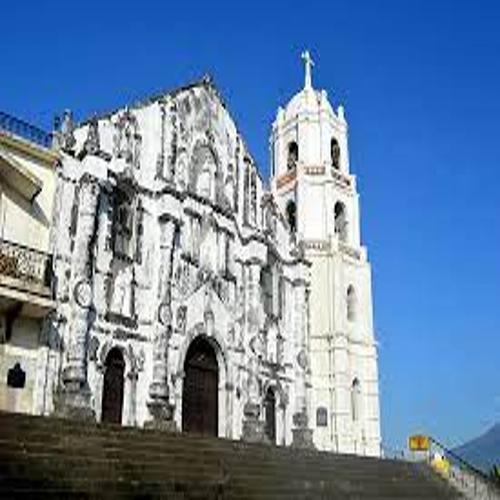Daraga Church: (56, 33, 384, 461)
